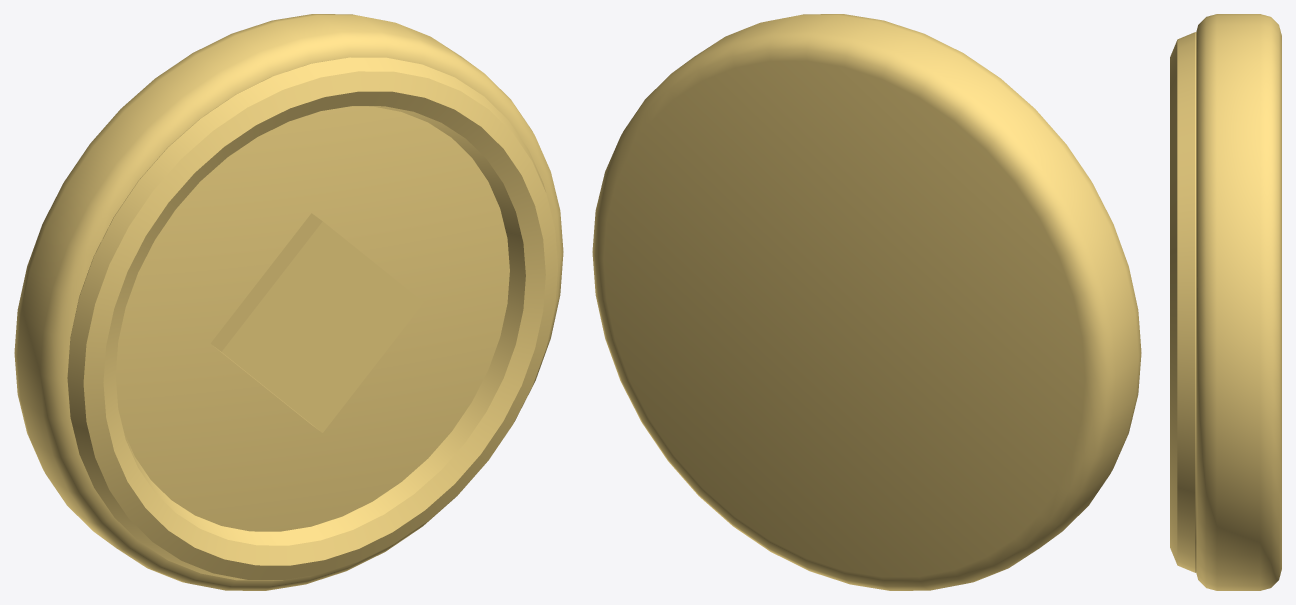
The model's file is SM_PlinkoCoin.fbx.
The picture shows the model from 3 angles, left to right: view 1: azimuth 30°, elevation 25°; view 2: azimuth 150°, elevation 25°; view 3: azimuth 270°, elevation 25°; orthographic projection. The views are drawn at different scales.
Parts seen in each view (by area): view 1: SM_PlinkoCoin; view 2: SM_PlinkoCoin; view 3: SM_PlinkoCoin.
Part boxes in pixels (x1=…): SM_PlinkoCoin: x1=14, y1=14, x2=563, y2=590; SM_PlinkoCoin: x1=592, y1=14, x2=1141, y2=590; SM_PlinkoCoin: x1=1170, y1=14, x2=1281, y2=590.
Bounding box in the file's own units: 0.08 × 0.08 × 0.0155.
